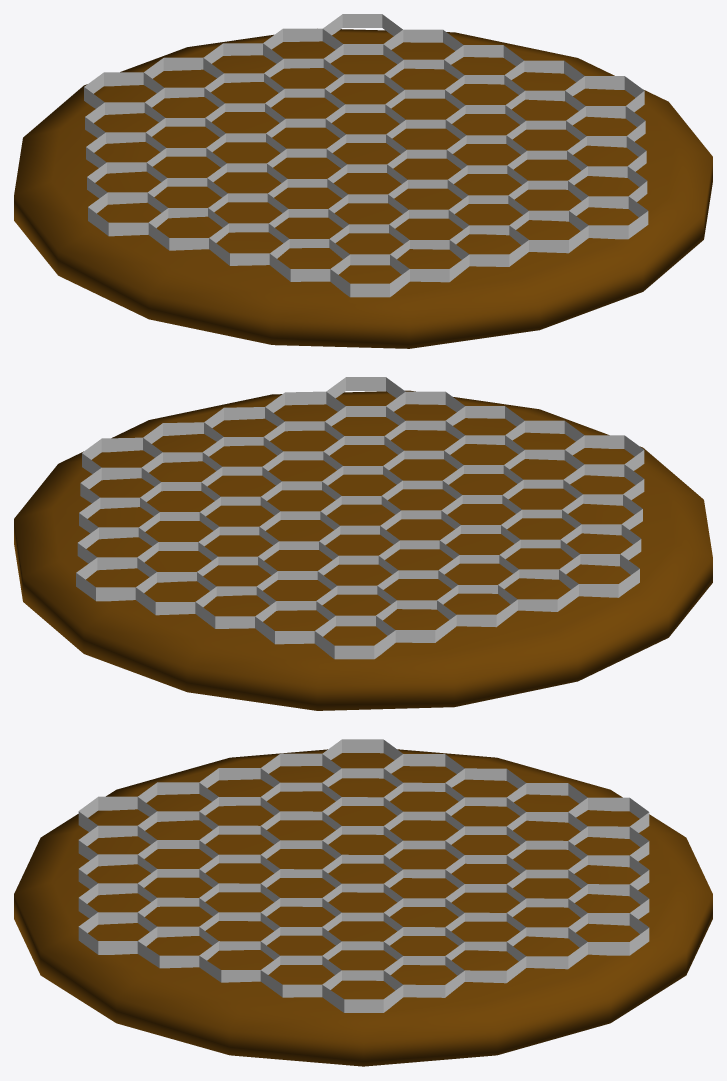
File: board.glb
3 renders of one model, top to bottom at view 1: azimuth 30°, elevation 25°; view 2: azimuth 150°, elevation 25°; view 3: azimuth 270°, elevation 25°, orthographic.
Parts seen in each view (by area): view 1: Cylinder, Honeycomb; view 2: Cylinder, Honeycomb; view 3: Cylinder, Honeycomb.
Part boxes in pixels (box(x1,y1,x2,y2)): Cylinder: box(14, 29, 712, 348); Honeycomb: box(84, 14, 648, 297); Cylinder: box(14, 390, 712, 710); Honeycomb: box(76, 377, 644, 659); Cylinder: box(14, 749, 712, 1066); Honeycomb: box(78, 739, 649, 1012).
Bounding box in the file's own units: 0.3 × 0.0242 × 0.3.
